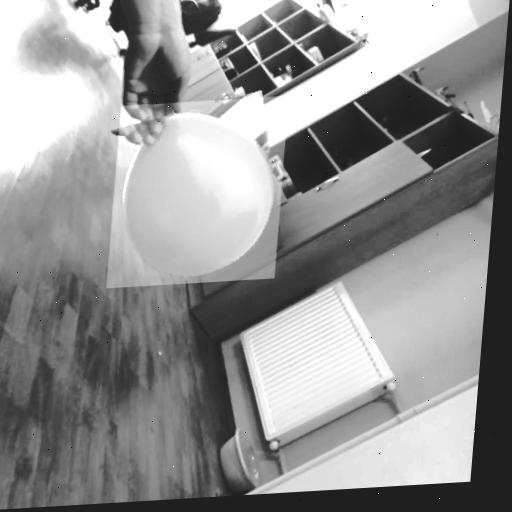balloon: (106, 96, 289, 289)
